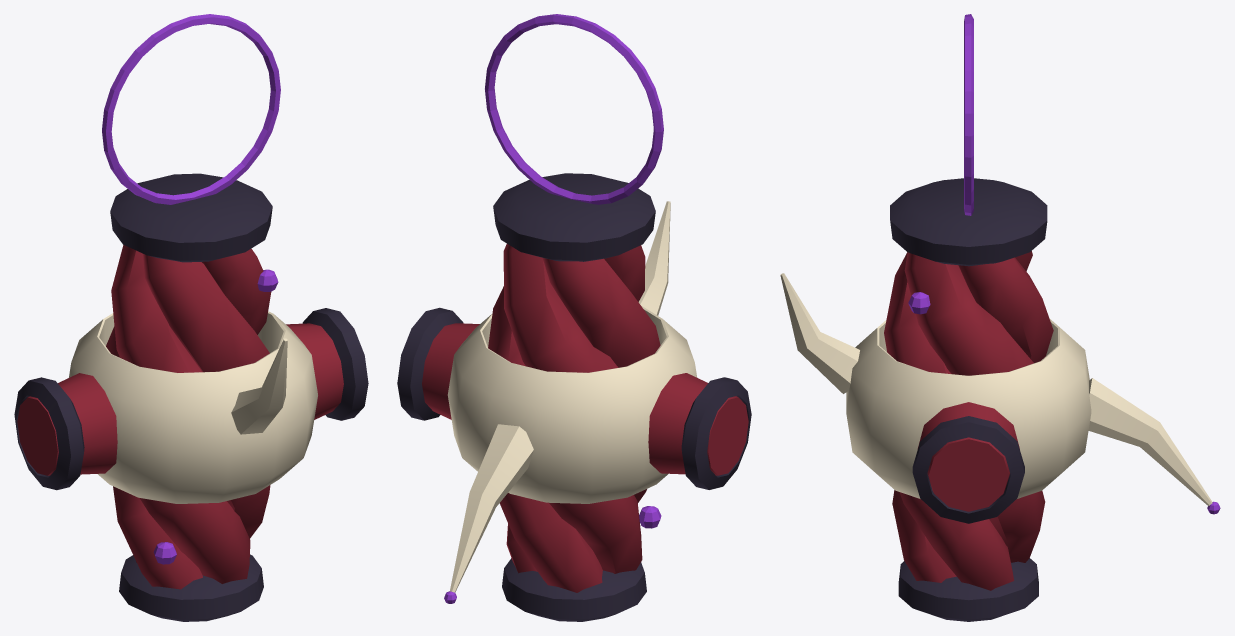
Rendered from Kit_Limb_AoeSpine_L.glb.
3 renders of one model, left to right at view 1: azimuth 30°, elevation 25°; view 2: azimuth 150°, elevation 25°; view 3: azimuth 270°, elevation 25°, orthographic.
Parts seen in each view (by area): view 1: Kit_Limb_AoeSpine_L; view 2: Kit_Limb_AoeSpine_L; view 3: Kit_Limb_AoeSpine_L.
Part boxes in pixels (bbox=[...]): Kit_Limb_AoeSpine_L: bbox=[14, 14, 368, 621]; Kit_Limb_AoeSpine_L: bbox=[397, 14, 751, 621]; Kit_Limb_AoeSpine_L: bbox=[780, 14, 1220, 621].
Size of the model in its own units: 0.2386 by 0.4318 by 0.2987.
